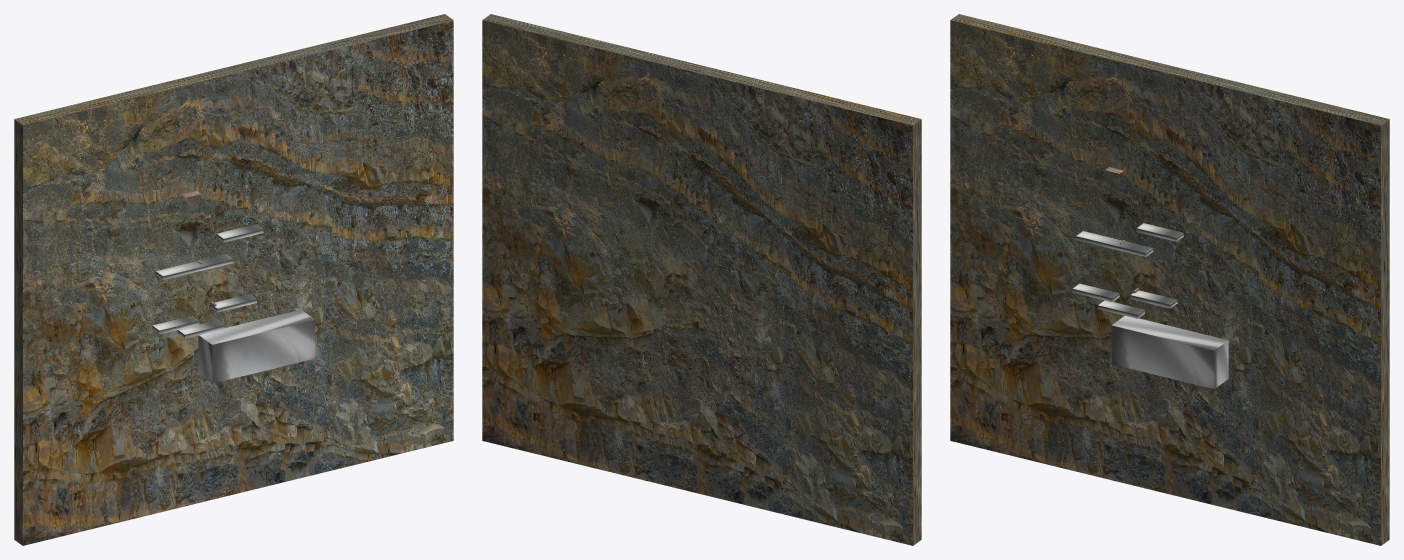
Rendered from stage3.fbx.
3 renders of one model, left to right at view 1: azimuth 30°, elevation 25°; view 2: azimuth 150°, elevation 25°; view 3: azimuth 330°, elevation 25°, orthographic.
Parts seen in each view (by area): view 1: Box009, Box005, Box010; view 2: Box009; view 3: Box009, Box005, Box010.
Boxes of the visible parts, bbox=[...] form: Box009: bbox=[14, 14, 453, 545]; Box005: bbox=[198, 309, 315, 383]; Box010: bbox=[155, 254, 232, 279]; Box009: bbox=[482, 14, 921, 545]; Box009: bbox=[950, 14, 1389, 545]; Box005: bbox=[1111, 316, 1228, 389]; Box010: bbox=[1076, 231, 1153, 256].
Size of the model in its own units: 6923 by 633 by 6455.
